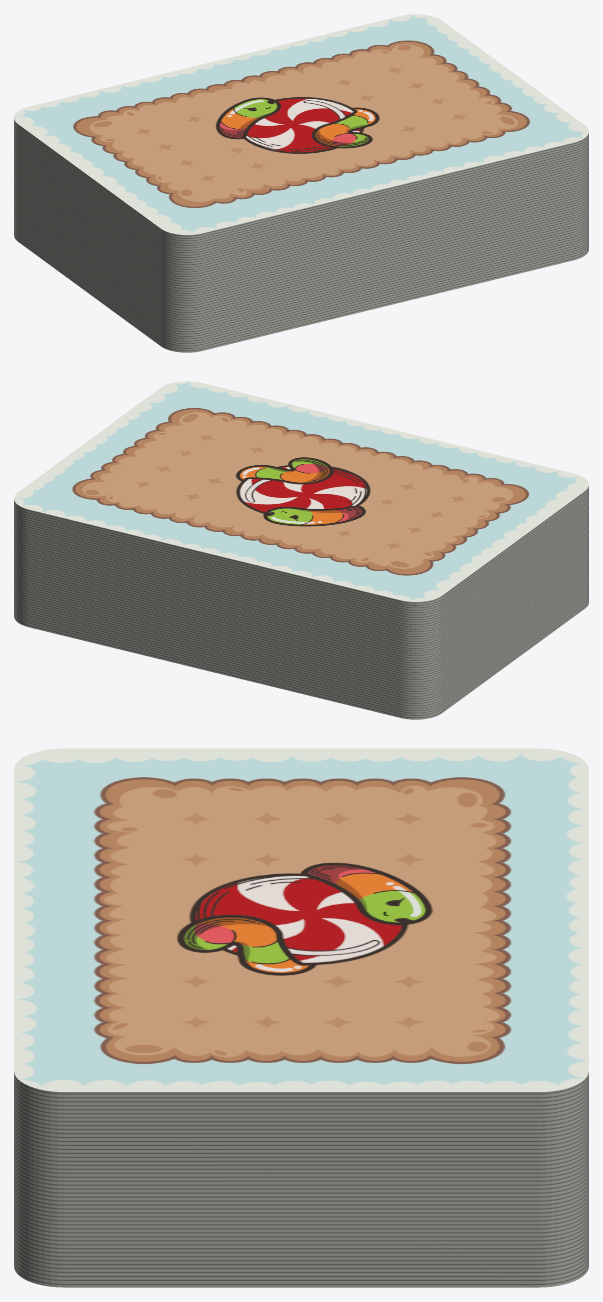
The model's file is cardstack.fbx.
3 renders of one model, top to bottom at view 1: azimuth 30°, elevation 25°; view 2: azimuth 150°, elevation 25°; view 3: azimuth 270°, elevation 25°, orthographic. The views are drawn at different scales.
Parts seen in each view (by area): view 1: Cube; view 2: Cube; view 3: Cube.
Part boxes in pixels (bbox=[...]): Cube: bbox=[14, 14, 588, 352]; Cube: bbox=[14, 381, 588, 719]; Cube: bbox=[14, 748, 588, 1287].
Size of the model in its own units: 566 by 150 by 400.
